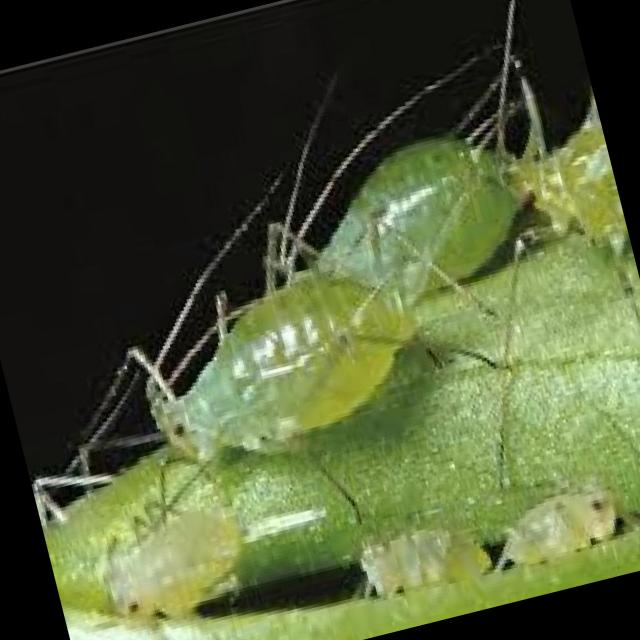aphid: (100, 229, 452, 492), (67, 470, 284, 640)
